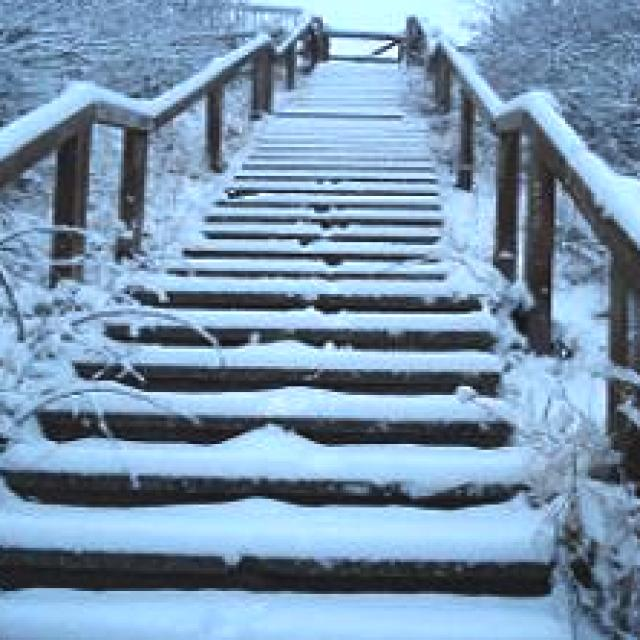upstair: (18, 266, 543, 586)
